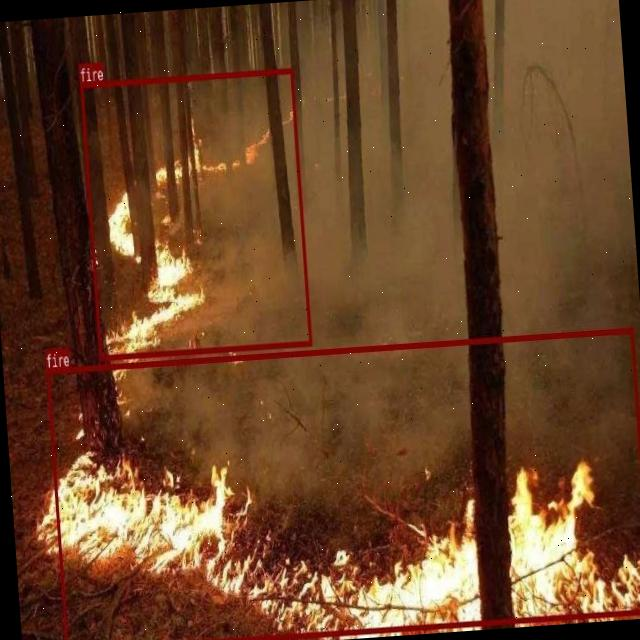fire: (45, 326, 640, 640), (80, 66, 312, 360)
